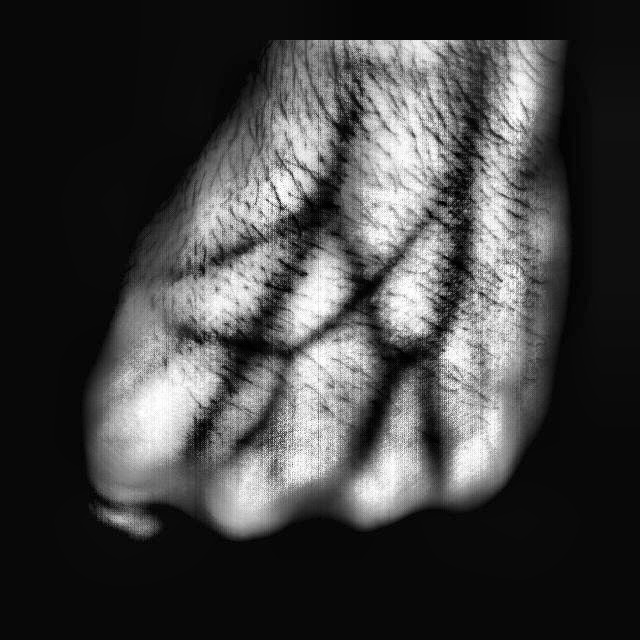Vein: (257, 118, 372, 316), (444, 99, 489, 294)
